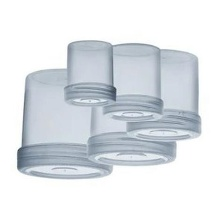plastic_box: (10, 63, 117, 184), (122, 45, 205, 145), (81, 101, 182, 171), (98, 40, 167, 125), (59, 38, 120, 110)
